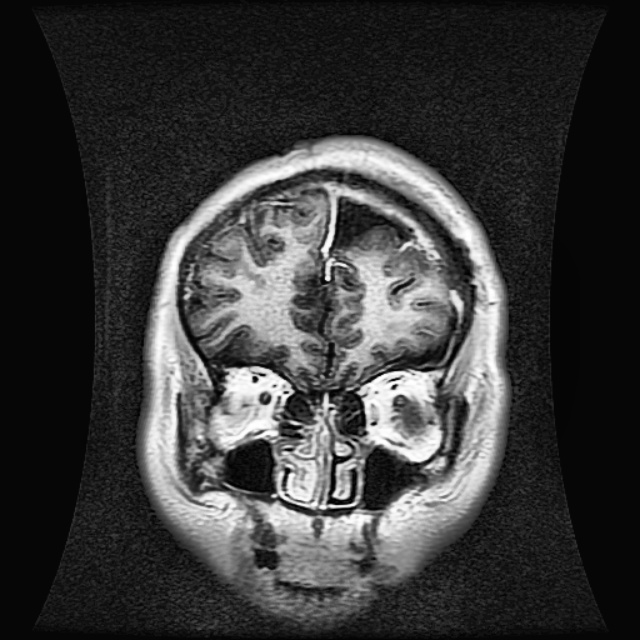Meningioma: (328, 192, 415, 249)
